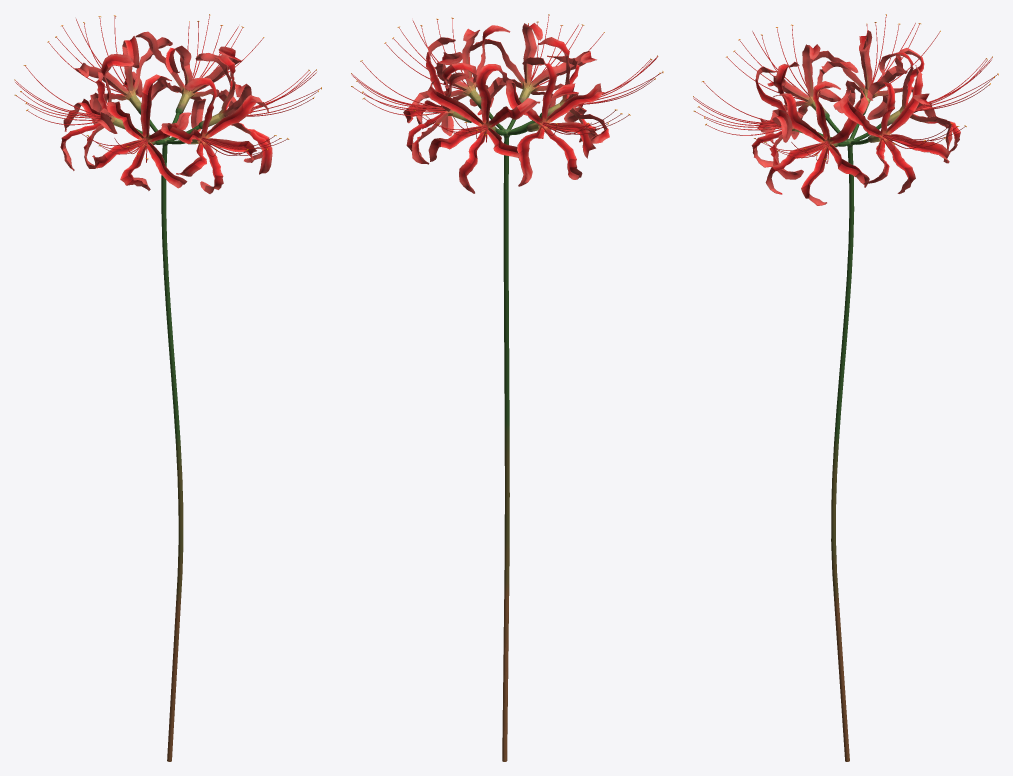
Rendered from spider_lily_lycoris_radiata.glb.
The picture shows the model from 3 angles, left to right: view 1: azimuth 30°, elevation 25°; view 2: azimuth 150°, elevation 25°; view 3: azimuth 270°, elevation 25°; orthographic projection. The views are drawn at different scales.
Parts seen in each view (by area): view 1: Lycoris.Radiata; view 2: Lycoris.Radiata; view 3: Lycoris.Radiata.
Boxes of the visible parts, left/top/right/bottom form: Lycoris.Radiata: left=14, top=14, right=321, bottom=761; Lycoris.Radiata: left=351, top=14, right=663, bottom=761; Lycoris.Radiata: left=693, top=14, right=998, bottom=761.
Bounding box in the file's own units: 0.2727 × 0.7047 × 0.2763.
Materials: 1 (1 with a texture image).
